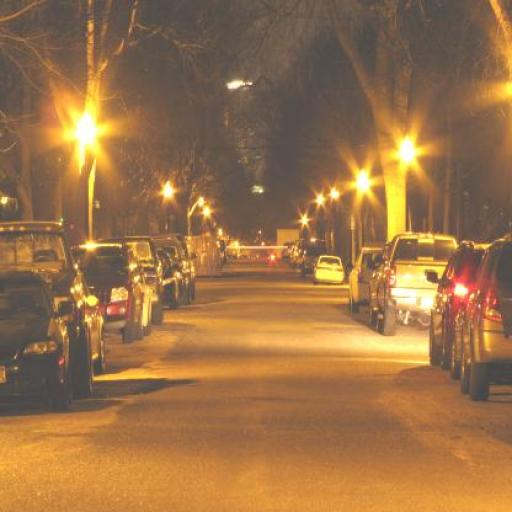street light: (80, 114, 98, 244), (401, 137, 413, 270), (357, 167, 367, 268)
